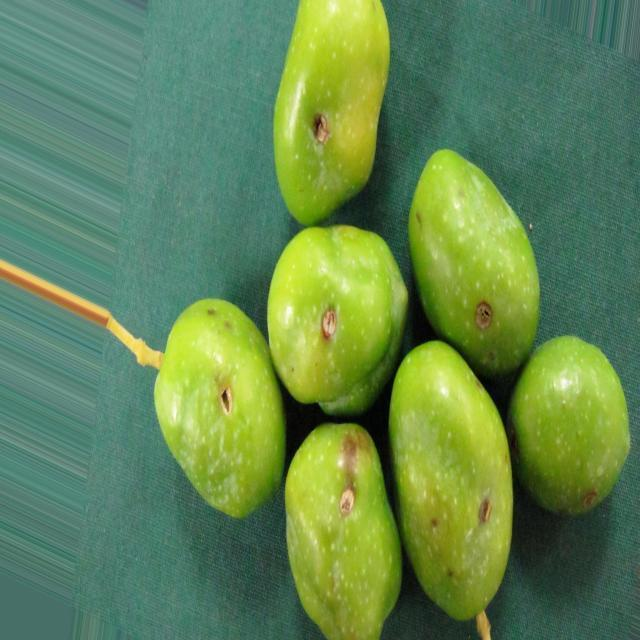Anthracnose: (389, 340, 513, 620), (408, 150, 540, 378), (154, 299, 286, 518), (268, 225, 408, 415), (274, 0, 390, 226), (285, 423, 402, 640), (506, 336, 630, 515)
